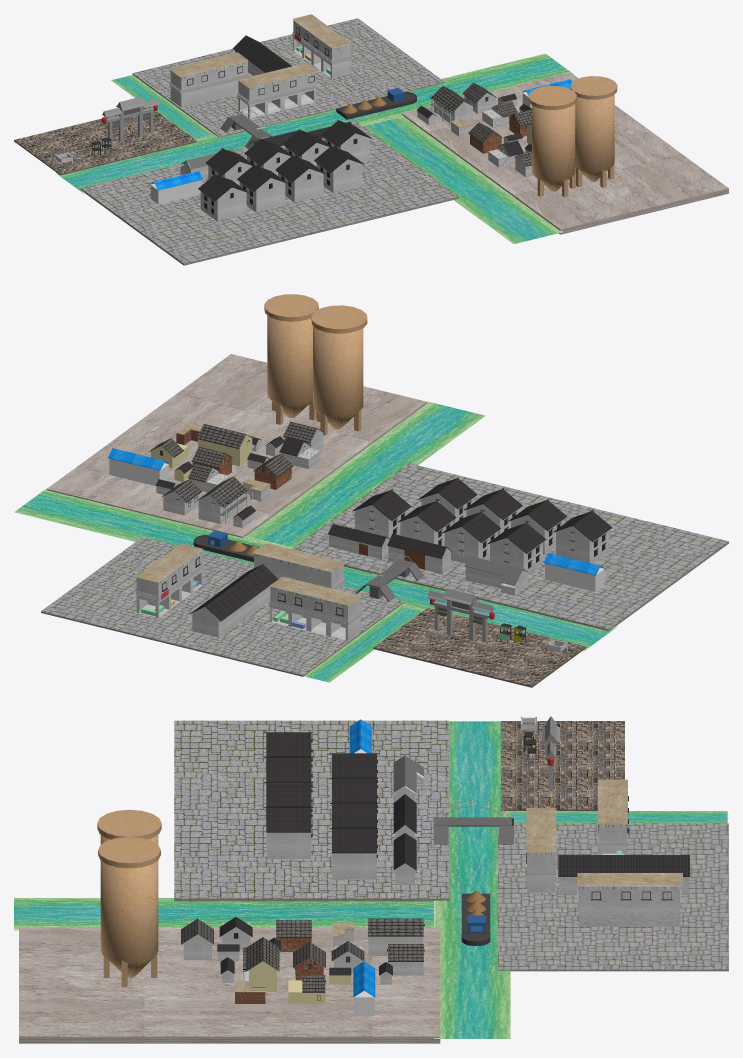
Rendered from Bacheng1_test1_merged3.glb.
3 renders of one model, top to bottom at view 1: azimuth 30°, elevation 25°; view 2: azimuth 150°, elevation 25°; view 3: azimuth 270°, elevation 25°, orthographic. The views are drawn at different scales.
Parts seen in each view (by area): view 1: Plane.007; view 2: Plane.007; view 3: Plane.007.
Boxes of the visible parts, x1,y1,x2,y2 form: Plane.007: (14,14,728,265); Plane.007: (14,294,728,687); Plane.007: (14,716,728,1043).
Bounding box in the file's own units: 52.07 × 10.17 × 49.56.
Materials: 29 (12 with a texture image).
